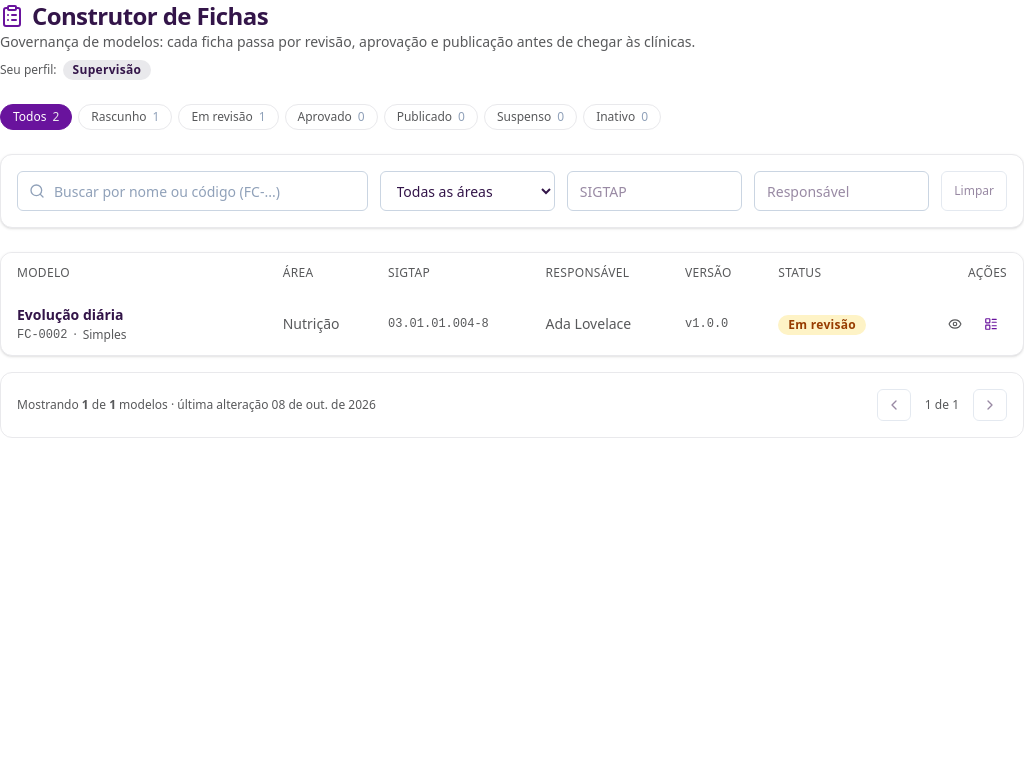
Test case: FormTemplatesPage › shows Supervisão without create/edit/delete, but able to approve a template in review
Expected: the button "Evolução diária" is shown, [17,305,124,325]
What coordinates should you click on to do the following:
click the button named "Ver detalhes de Evolução diária"
I would click on:
 (955, 324)
Its box is [939,308,971,340].
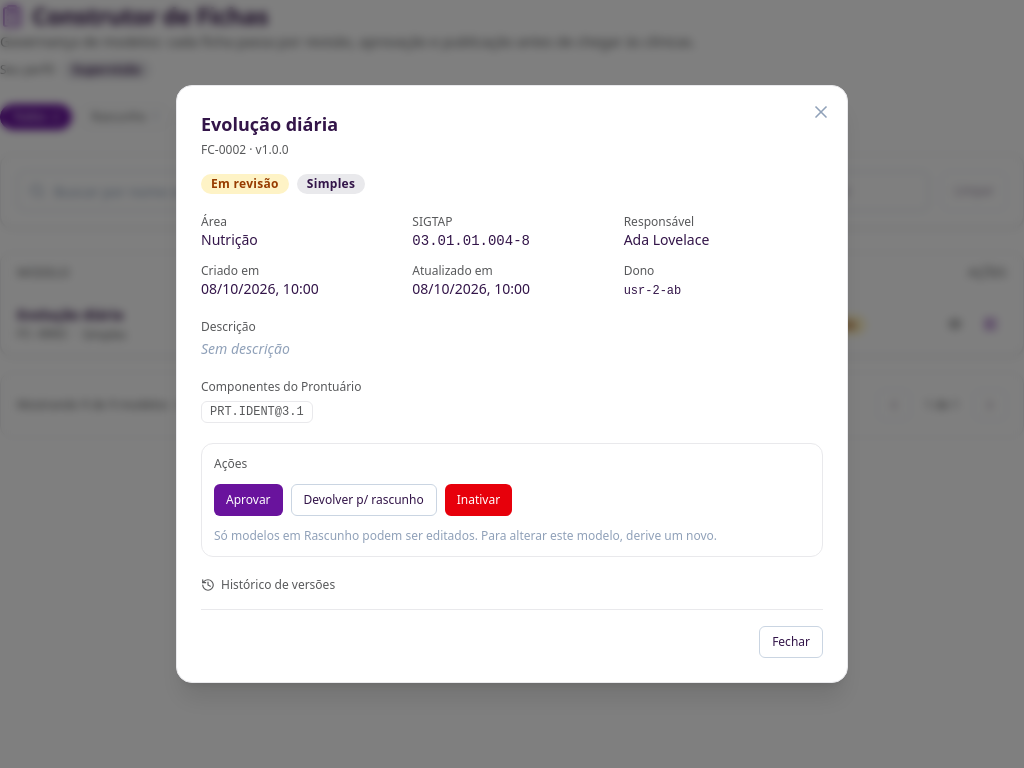
What coordinates should you click on to do the following:
click the button "Aprovar"
I would click on:
 (248, 500)
Its box is [214,484,283,516].
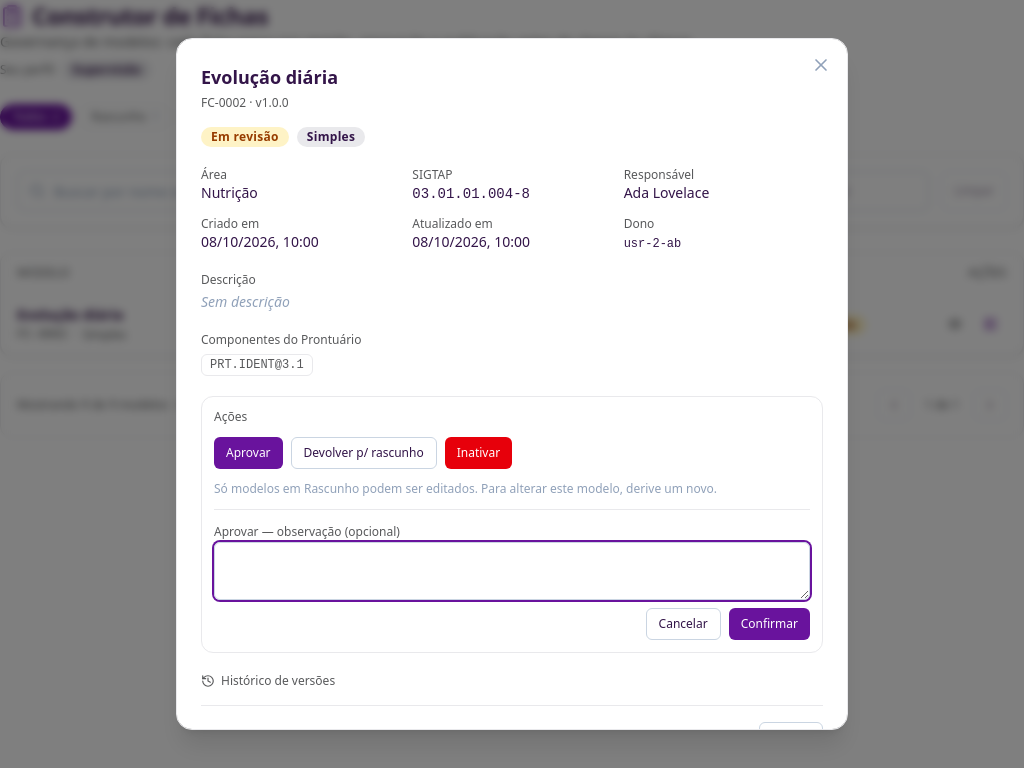
What coordinates should you click on to do the following:
click the button "Confirmar"
I would click on:
 (769, 624)
Its box is [729,608,810,640].
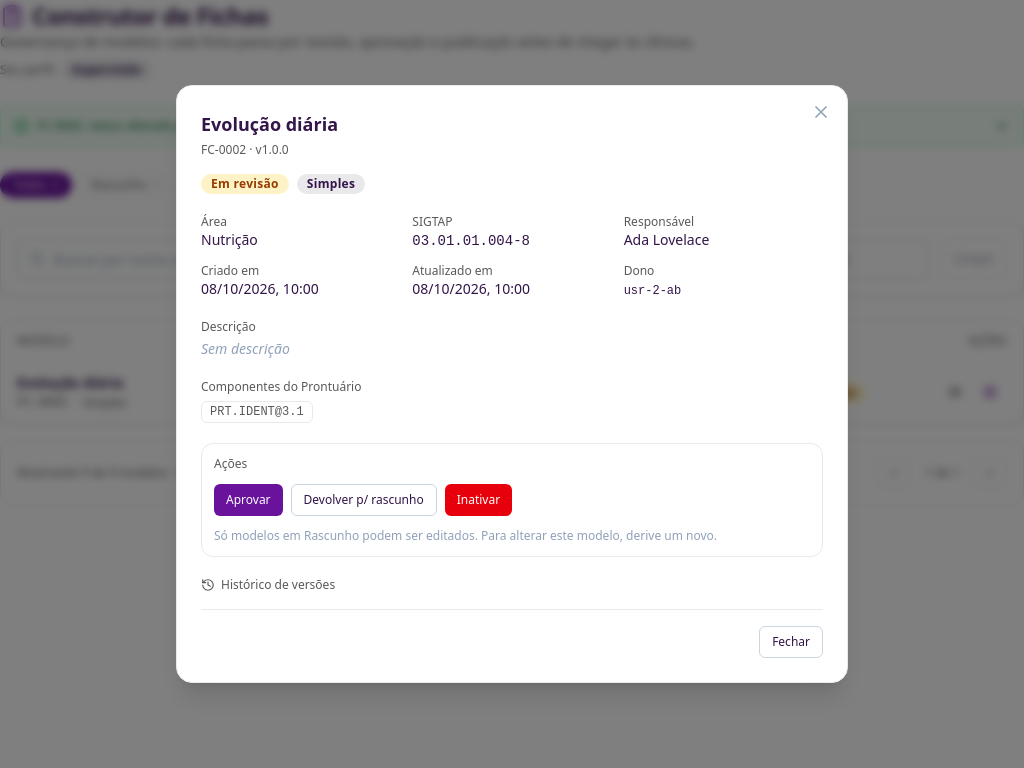
Expected: the text "FC-0002: status alterado para \"Aprovado\"." is shown, [37,118,271,134]
